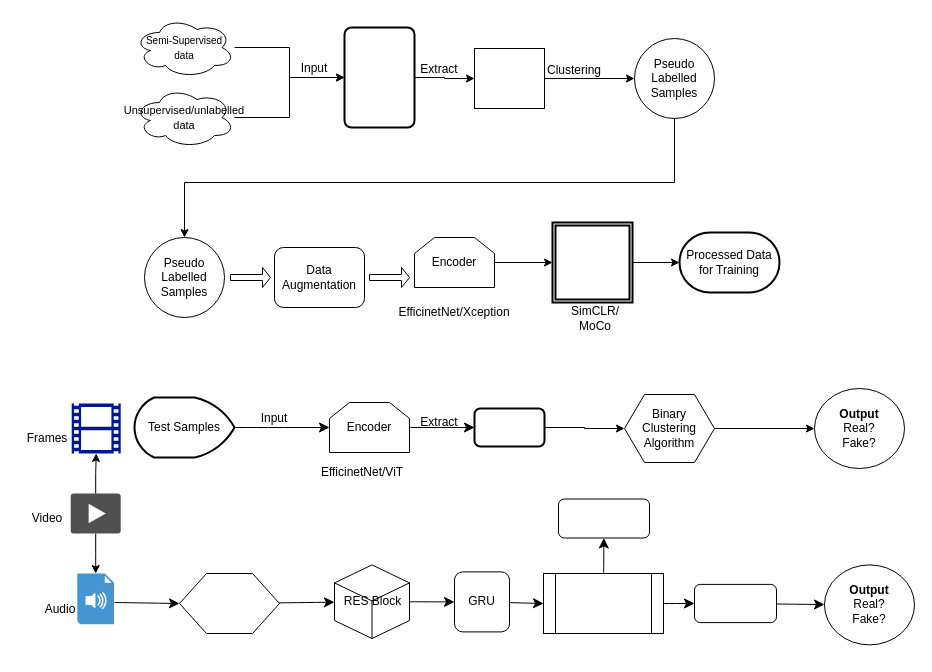
Some shapes in this 932 by 672 pixel diagram are drawn without their labels. The shapes that lost their labels are listed below. From the top down, each one's centre as x and y in pixels, then its label:
At point 379,77: "VAF Extractor".
At point 509,78: "Primitive Clustering using DNN".
At point 592,262: "Contrastive Learning".
At point 509,427: "Features".
At point 604,518: "Vocoder Identification".
At point 229,603: "Fixed Sinc Filter".
At point 735,603: "Binary Classification".
